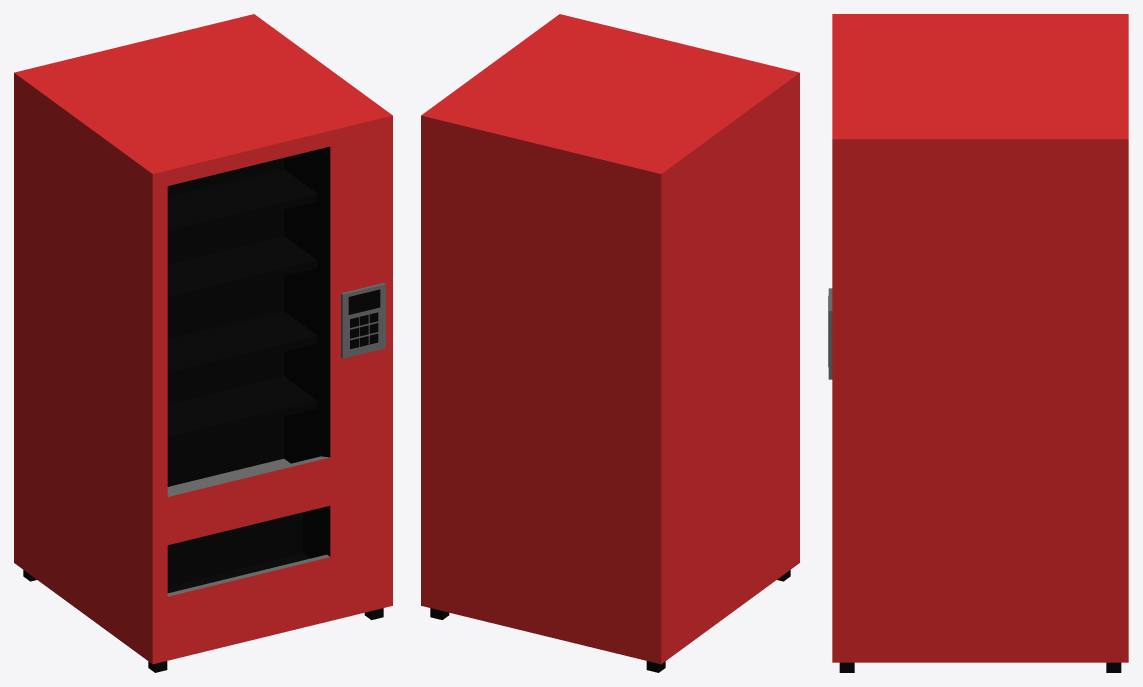
Rendered from vending_machine.glb.
The picture shows the model from 3 angles, left to right: view 1: azimuth 30°, elevation 25°; view 2: azimuth 150°, elevation 25°; view 3: azimuth 270°, elevation 25°; orthographic projection. The views are drawn at different scales.
Visible parts, largest first — view 1: Object_3, Object_5, Object_4; view 2: Object_3; view 3: Object_3, Object_4.
Boxes of the visible parts, box(x1,y1,x2,y2) form: Object_3: box(14, 14, 392, 664); Object_5: box(23, 146, 383, 672); Object_4: box(167, 283, 385, 596); Object_3: box(421, 14, 799, 664); Object_3: box(832, 14, 1128, 662); Object_4: box(828, 288, 832, 379).
Size of the model in its own units: 4 by 8 by 4.06.
